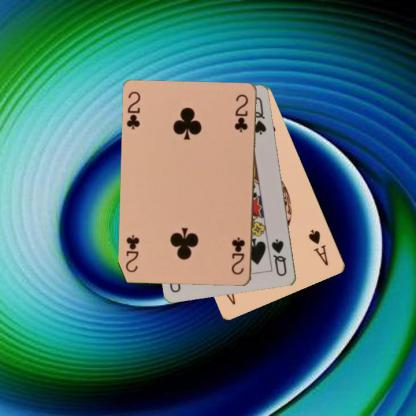2c: (124, 89, 142, 131), (229, 235, 247, 276)
As: (306, 226, 330, 268)
Qs: (269, 236, 288, 278)
